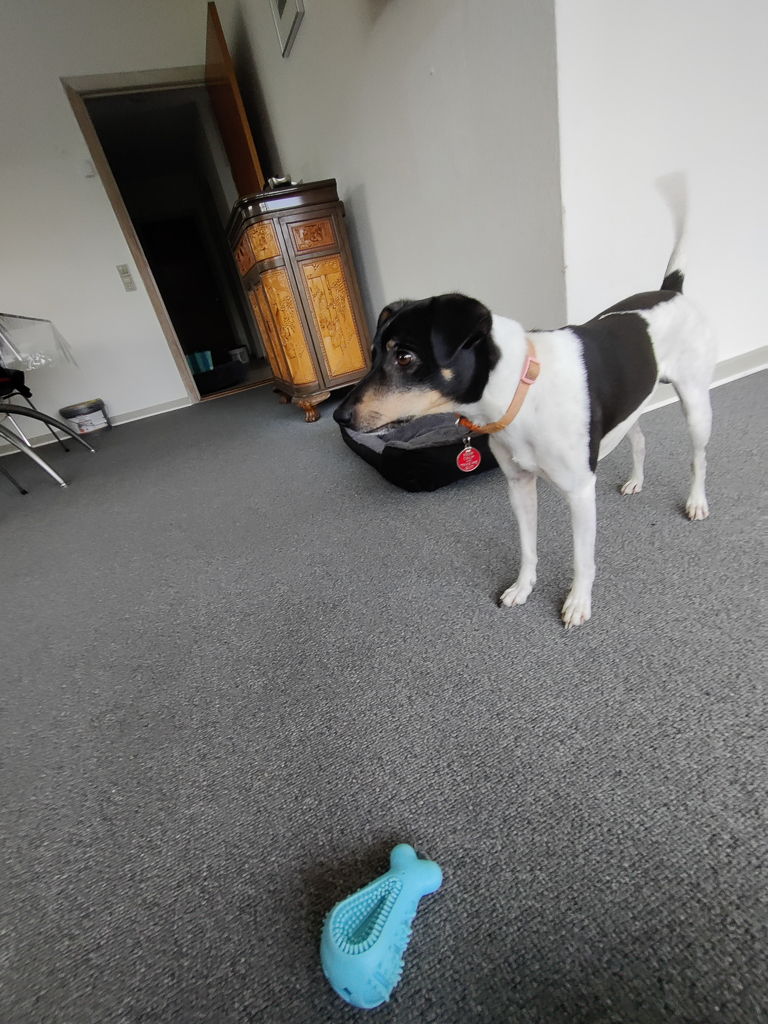Dog: (324, 124, 740, 646)
